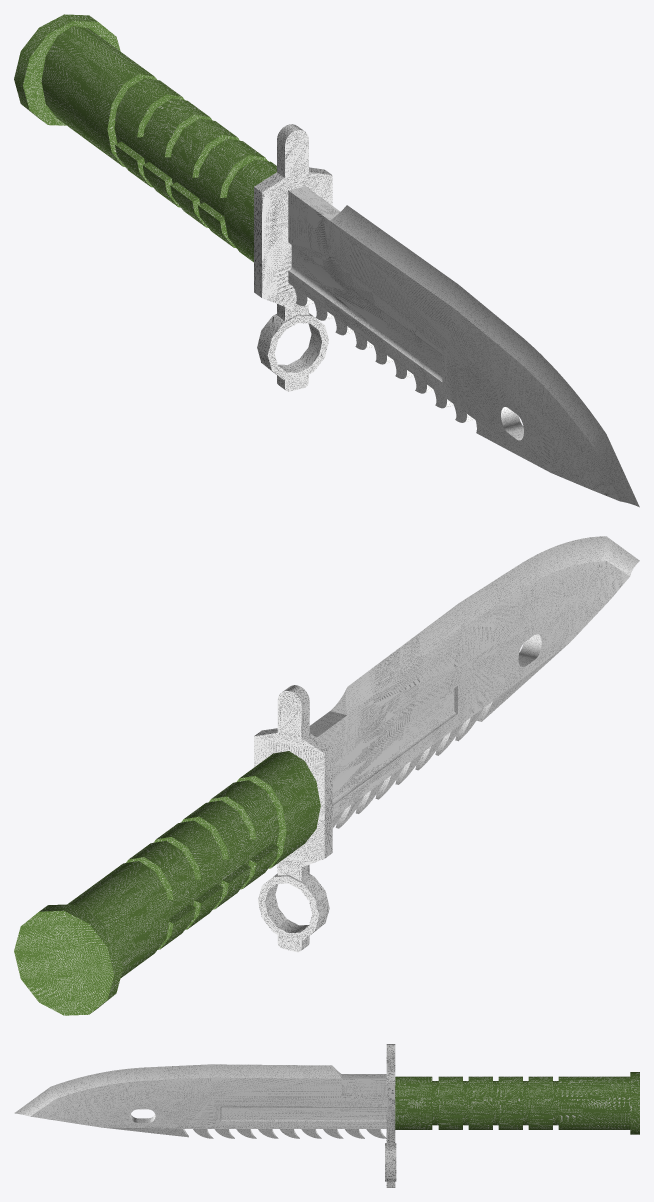
Rendered from model_align.obj.
The picture shows the model from 3 angles, top to bottom: view 1: azimuth 30°, elevation 25°; view 2: azimuth 150°, elevation 25°; view 3: azimuth 270°, elevation 25°; orthographic projection. The views are drawn at different scales.
Parts seen in each view (by area): view 1: mesh2_mesh2-geometry, mesh1_mesh1-geometry, mesh3_mesh3-geometry; view 2: mesh2_mesh2-geometry, mesh1_mesh1-geometry, mesh3_mesh3-geometry; view 3: mesh2_mesh2-geometry, mesh1_mesh1-geometry, mesh3_mesh3-geometry.
Boxes of the visible parts, left/top/right/bottom form: mesh2_mesh2-geometry: left=288, top=186, right=639, bottom=507; mesh1_mesh1-geometry: left=14, top=14, right=276, bottom=262; mesh3_mesh3-geometry: left=254, top=124, right=332, bottom=391; mesh2_mesh2-geometry: left=309, top=536, right=639, bottom=828; mesh1_mesh1-geometry: left=14, top=751, right=320, bottom=1015; mesh3_mesh3-geometry: left=254, top=685, right=332, bottom=952; mesh2_mesh2-geometry: left=14, top=1064, right=386, bottom=1138; mesh1_mesh1-geometry: left=395, top=1072, right=639, bottom=1134; mesh3_mesh3-geometry: left=385, top=1044, right=396, bottom=1187.
Size of the model in its own units: 0.0203 by 0.0501 by 0.2018.
